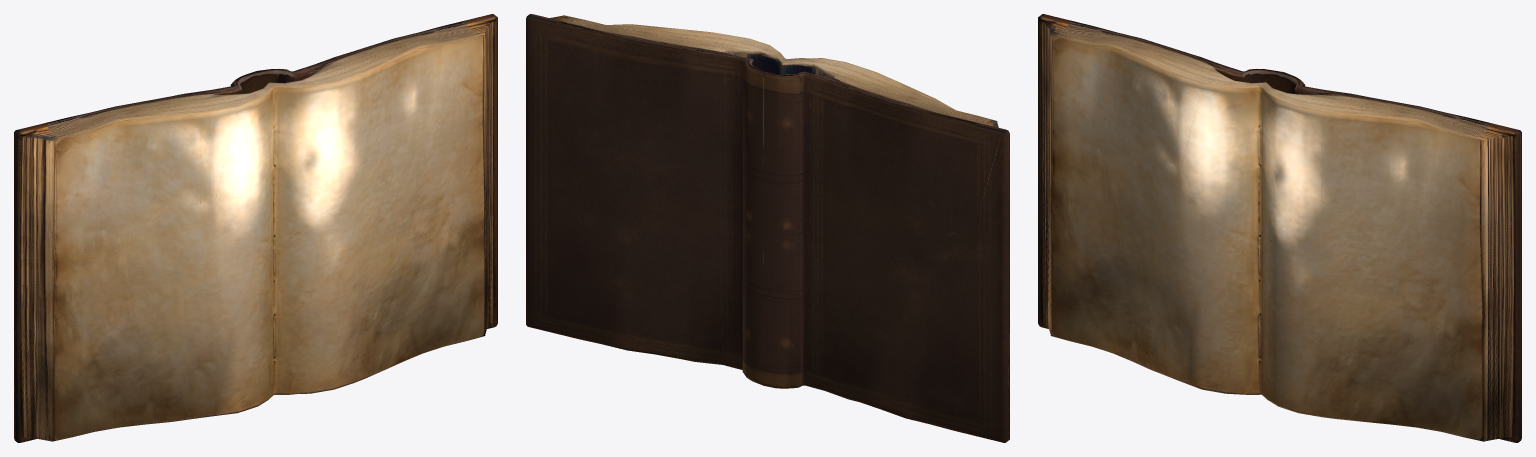
File: Meshy_AI_Open_Ancient_Book_0418180027_texture.fbx
3 renders of one model, left to right at view 1: azimuth 30°, elevation 25°; view 2: azimuth 150°, elevation 25°; view 3: azimuth 330°, elevation 25°, orthographic.
Parts seen in each view (by area): view 1: Mesh_0; view 2: Mesh_0; view 3: Mesh_0.
Part boxes in pixels (box(x1,y1,x2,y2)): Mesh_0: box(14, 14, 497, 442); Mesh_0: box(526, 14, 1009, 442); Mesh_0: box(1038, 14, 1521, 442).
Size of the model in its own units: 191 by 118 by 22.31.
Materials: 1 (1 with a texture image).
